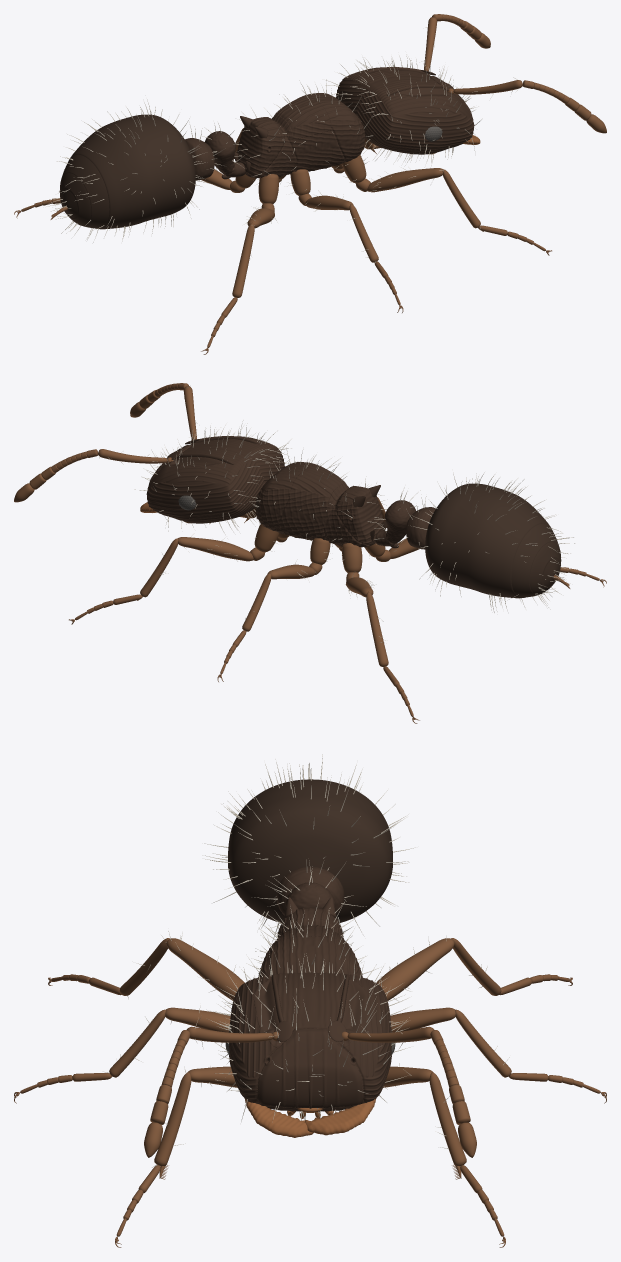
Rendered from tetramorium.glb.
3 views of the same model, one above another, from view 1: azimuth 30°, elevation 25°; view 2: azimuth 150°, elevation 25°; view 3: azimuth 270°, elevation 25° (orthographic). The views are drawn at different scales.
Parts seen in each view (by area): view 1: gaster-IV, x-head-capsule, mesosoma, hl-propodeum, hl-pronotum, gaster-V, hl-mesonotum, x-setae-gaster, x-setae-head, petiole, x-femur-fore_R, gaster-VI (+9 smaller); view 2: gaster-IV, x-head-capsule, mesosoma, hl-propodeum, hl-pronotum, gaster-V, hl-mesonotum, x-setae-gaster, petiole, x-setae-head, x-femur-fore_L, gaster-VI (+10 smaller); view 3: gaster-IV, x-head-capsule, clypeus, hl-pronotum, x-setae-head, x-setae-gaster, x-femur-hind_L, x-femur-hind_R, postpetiole, mandible_L, mandible_R, x-tibia-fore_L (+21 smaller).
Part boxes in pixels (bbox=[...]): gaster-IV: bbox=[68, 114, 195, 229]; x-head-capsule: bbox=[336, 67, 474, 154]; mesosoma: bbox=[245, 130, 344, 178]; hl-propodeum: bbox=[236, 117, 284, 176]; hl-pronotum: bbox=[304, 93, 365, 161]; gaster-V: bbox=[60, 154, 109, 228]; hl-mesonotum: bbox=[274, 95, 331, 139]; x-setae-gaster: bbox=[46, 99, 212, 242]; x-setae-head: bbox=[325, 54, 482, 165]; petiole: bbox=[205, 131, 245, 179]; x-femur-fore_R: bbox=[367, 168, 442, 192]; gaster-VI: bbox=[59, 173, 91, 225]; gaster-IV: bbox=[425, 483, 551, 598]; x-head-capsule: bbox=[146, 436, 285, 523]; mesosoma: bbox=[275, 499, 375, 547]; hl-propodeum: bbox=[336, 486, 383, 545]; hl-pronotum: bbox=[255, 462, 316, 530]; gaster-V: bbox=[511, 523, 560, 597]; hl-mesonotum: bbox=[289, 464, 345, 508]; x-setae-gaster: bbox=[410, 472, 575, 612]; petiole: bbox=[375, 500, 415, 548]; x-setae-head: bbox=[134, 420, 298, 534]; x-femur-fore_L: bbox=[178, 537, 253, 561]; gaster-VI: bbox=[529, 542, 561, 594]; gaster-IV: bbox=[228, 779, 392, 923]; x-head-capsule: bbox=[229, 972, 391, 1111]; clypeus: bbox=[257, 1028, 363, 1108]; hl-pronotum: bbox=[258, 936, 362, 976]; x-setae-head: bbox=[207, 952, 411, 1121]; x-setae-gaster: bbox=[202, 754, 415, 943]; x-femur-hind_L: bbox=[376, 938, 454, 1000]; x-femur-hind_R: bbox=[166, 938, 244, 1000]; postpetiole: bbox=[276, 867, 344, 915]; mandible_L: bbox=[304, 1098, 376, 1135]; mandible_R: bbox=[244, 1098, 313, 1137]; x-tibia-fore_L: bbox=[429, 1072, 466, 1166].
Bounding box in the file's own units: 3.77 × 1.3 × 2.8.
